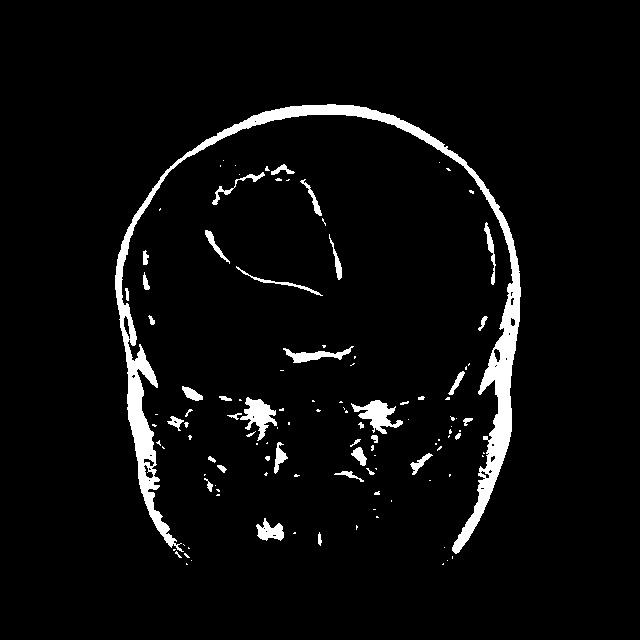Brain-Tumor: (190, 156, 356, 310)
